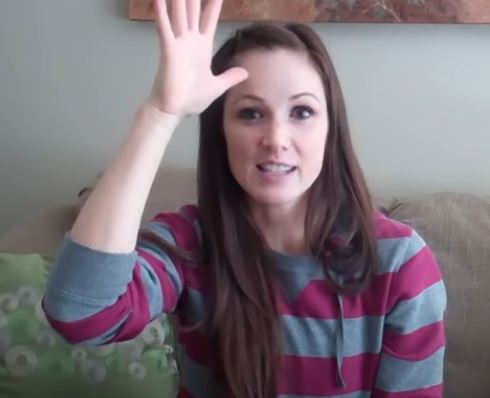dad: (146, 1, 328, 140)
